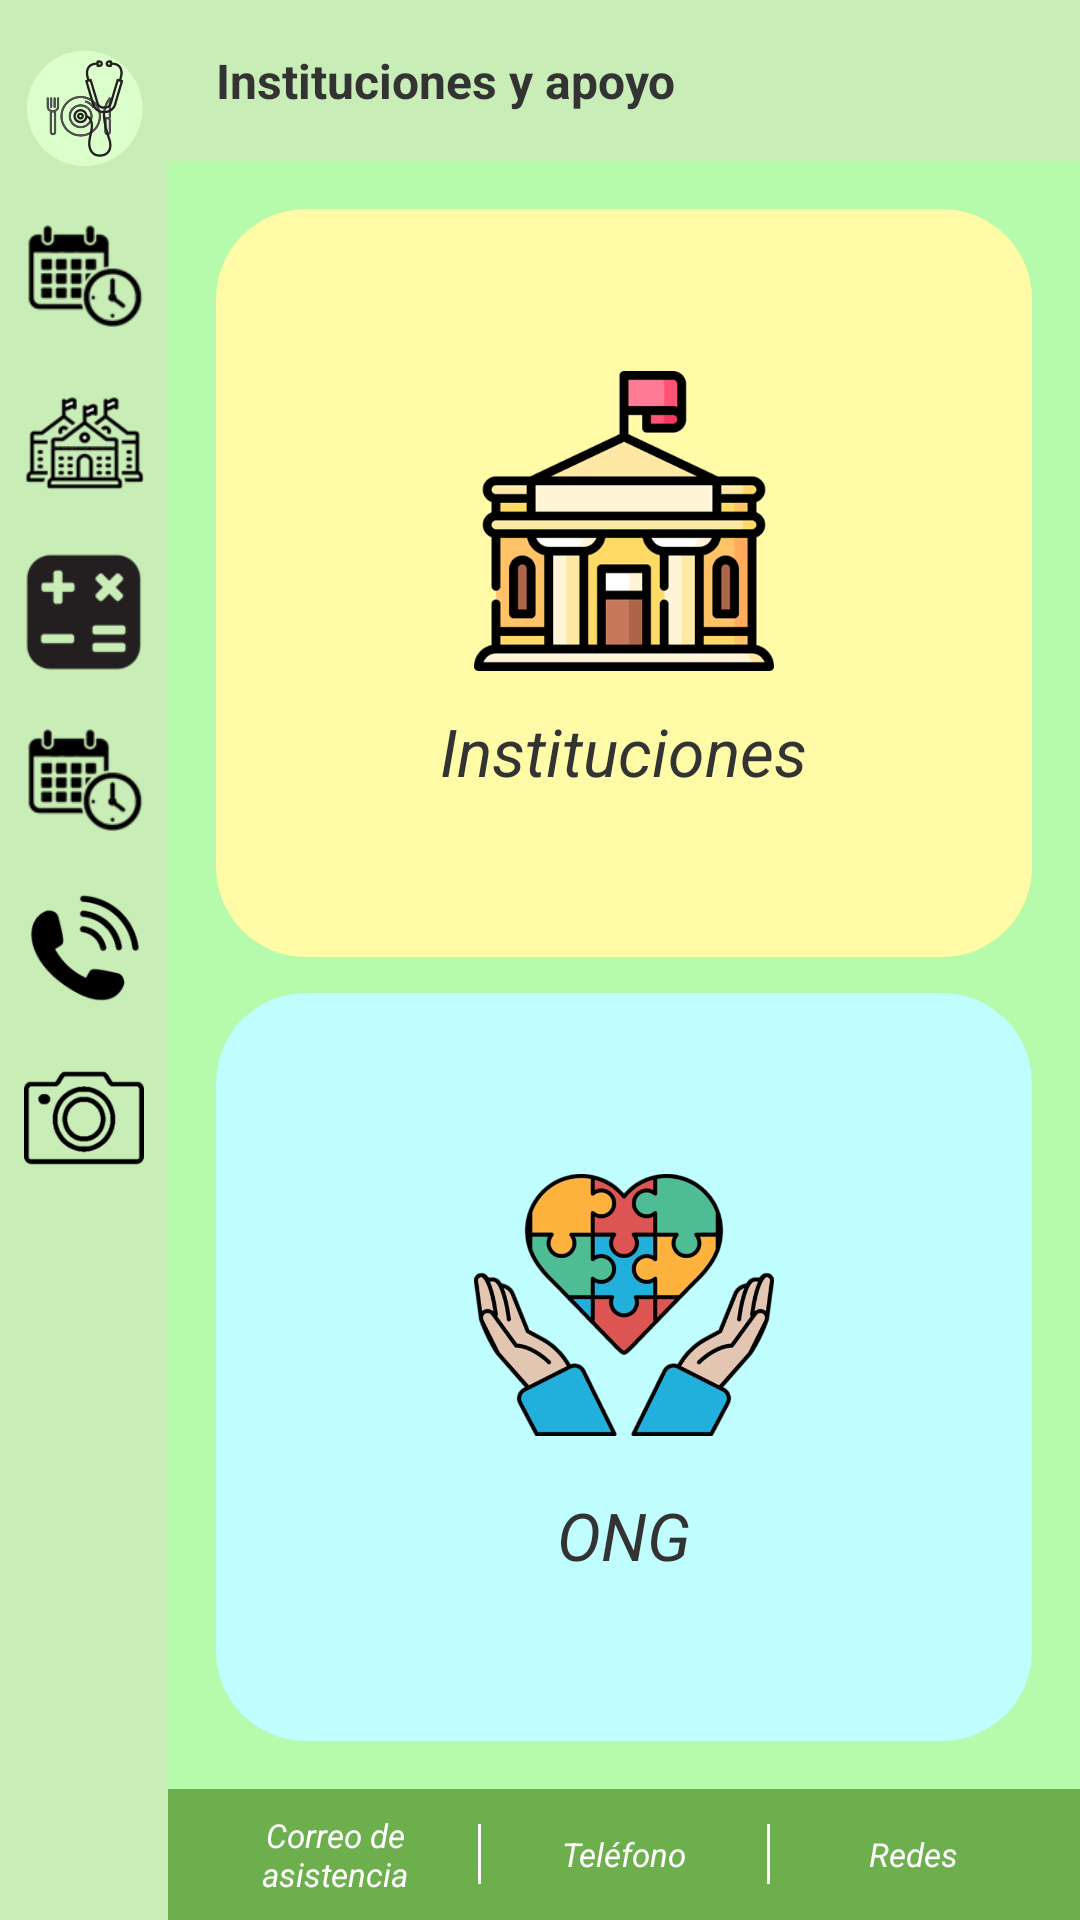

Point at icon controls on the screen. Image size 1080x1920, points as (x,y).
Calculadora: (83,612)
Cámara: (84,1118)
Institución: (85,443)
Teléfono: (85,948)
